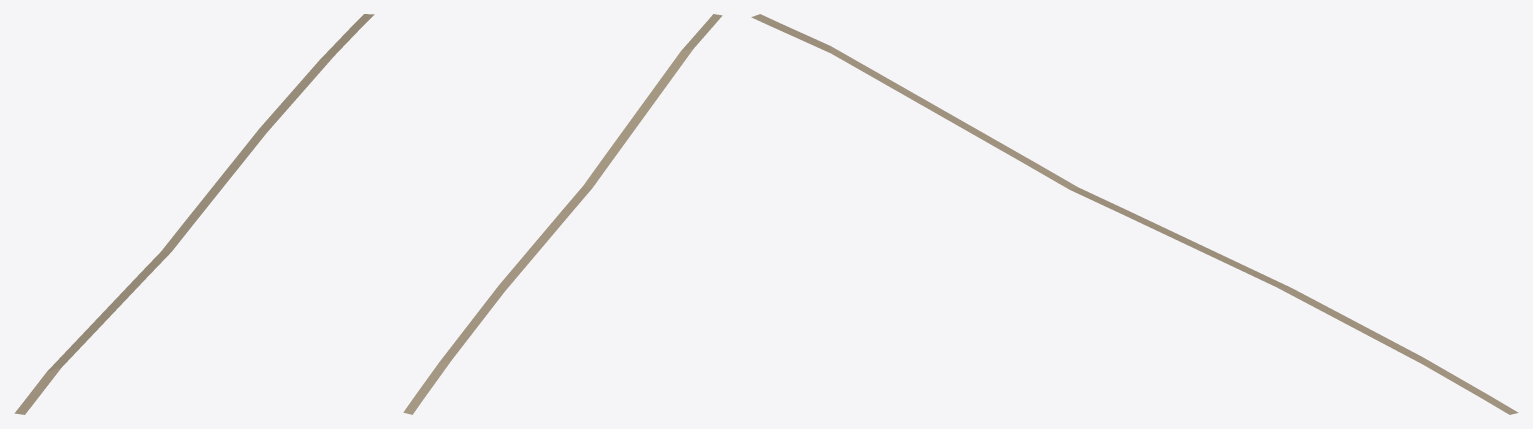
File: farm_12_23_track.glb
The picture shows the model from 3 angles, left to right: view 1: azimuth 30°, elevation 25°; view 2: azimuth 210°, elevation 25°; view 3: azimuth 270°, elevation 25°; orthographic projection. The views are drawn at different scales.
Parts seen in each view (by area): view 1: geometry_0; view 2: geometry_0; view 3: geometry_0.
Part boxes in pixels (x1,y1,x2,y2): geometry_0: [14, 14, 374, 414]; geometry_0: [403, 14, 722, 414]; geometry_0: [751, 14, 1518, 414].
Size of the model in its own units: 240 by 9.17 by 208.
